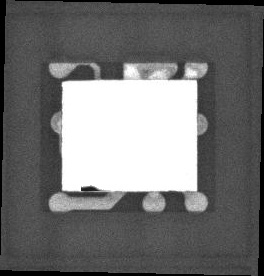DIE_BROKEN: (78, 183, 104, 192)
